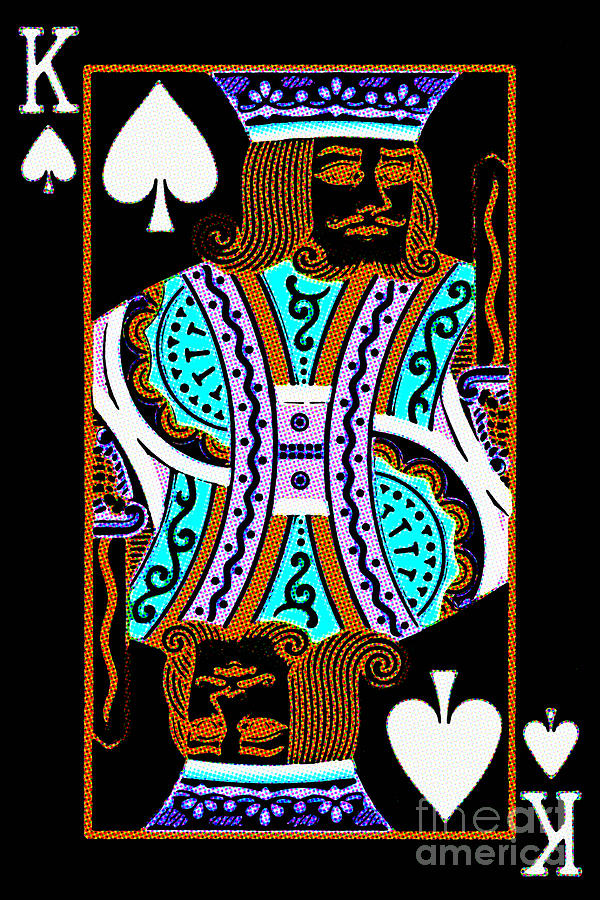king of spades: (10, 9, 587, 891)
